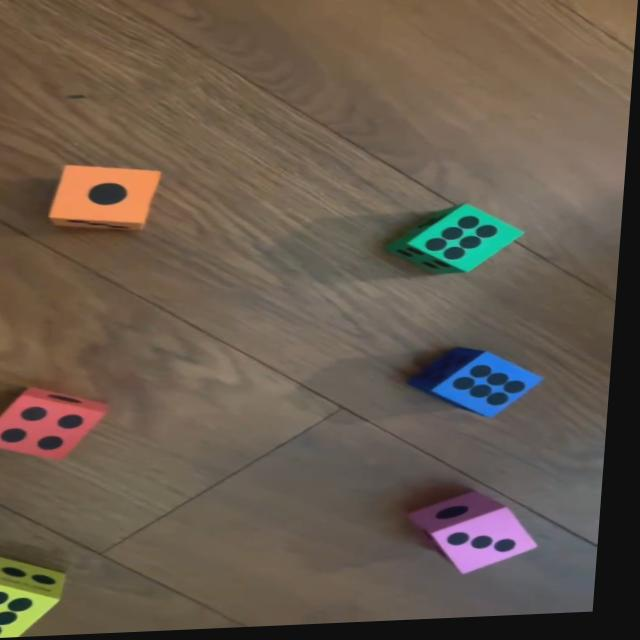blue_block: (409, 349, 547, 425)
red_block: (0, 386, 115, 462)
